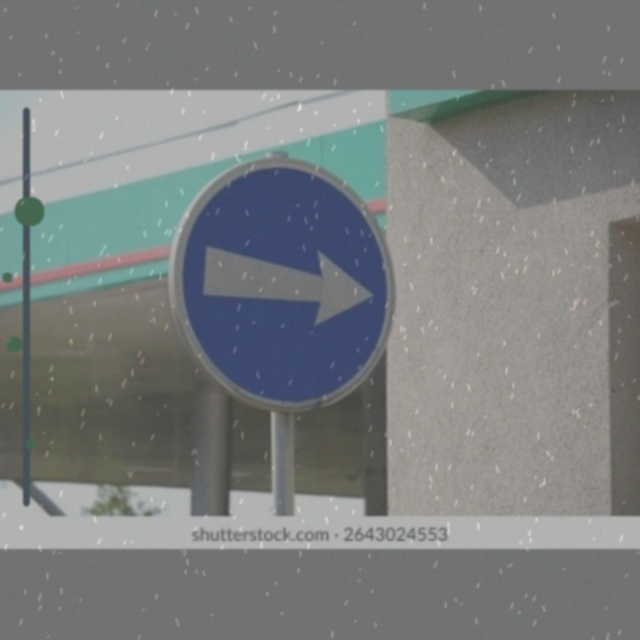Compulsory_Turn_Right: (176, 155, 402, 414)
